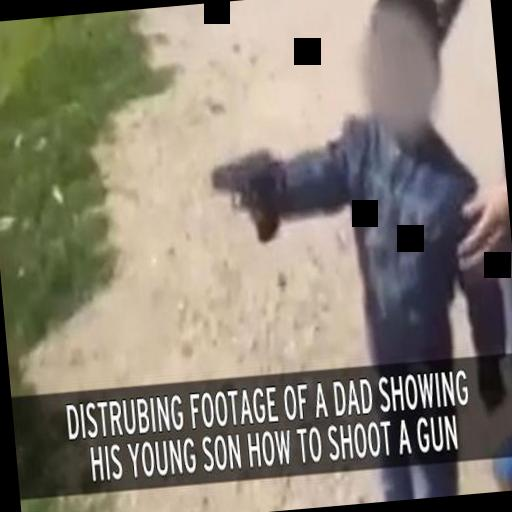Handgun: (208, 146, 282, 246)
